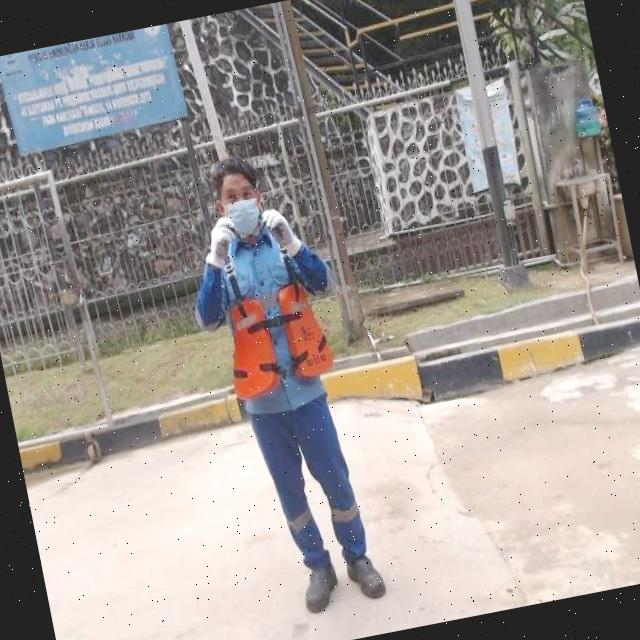vest: (214, 282, 340, 406)
